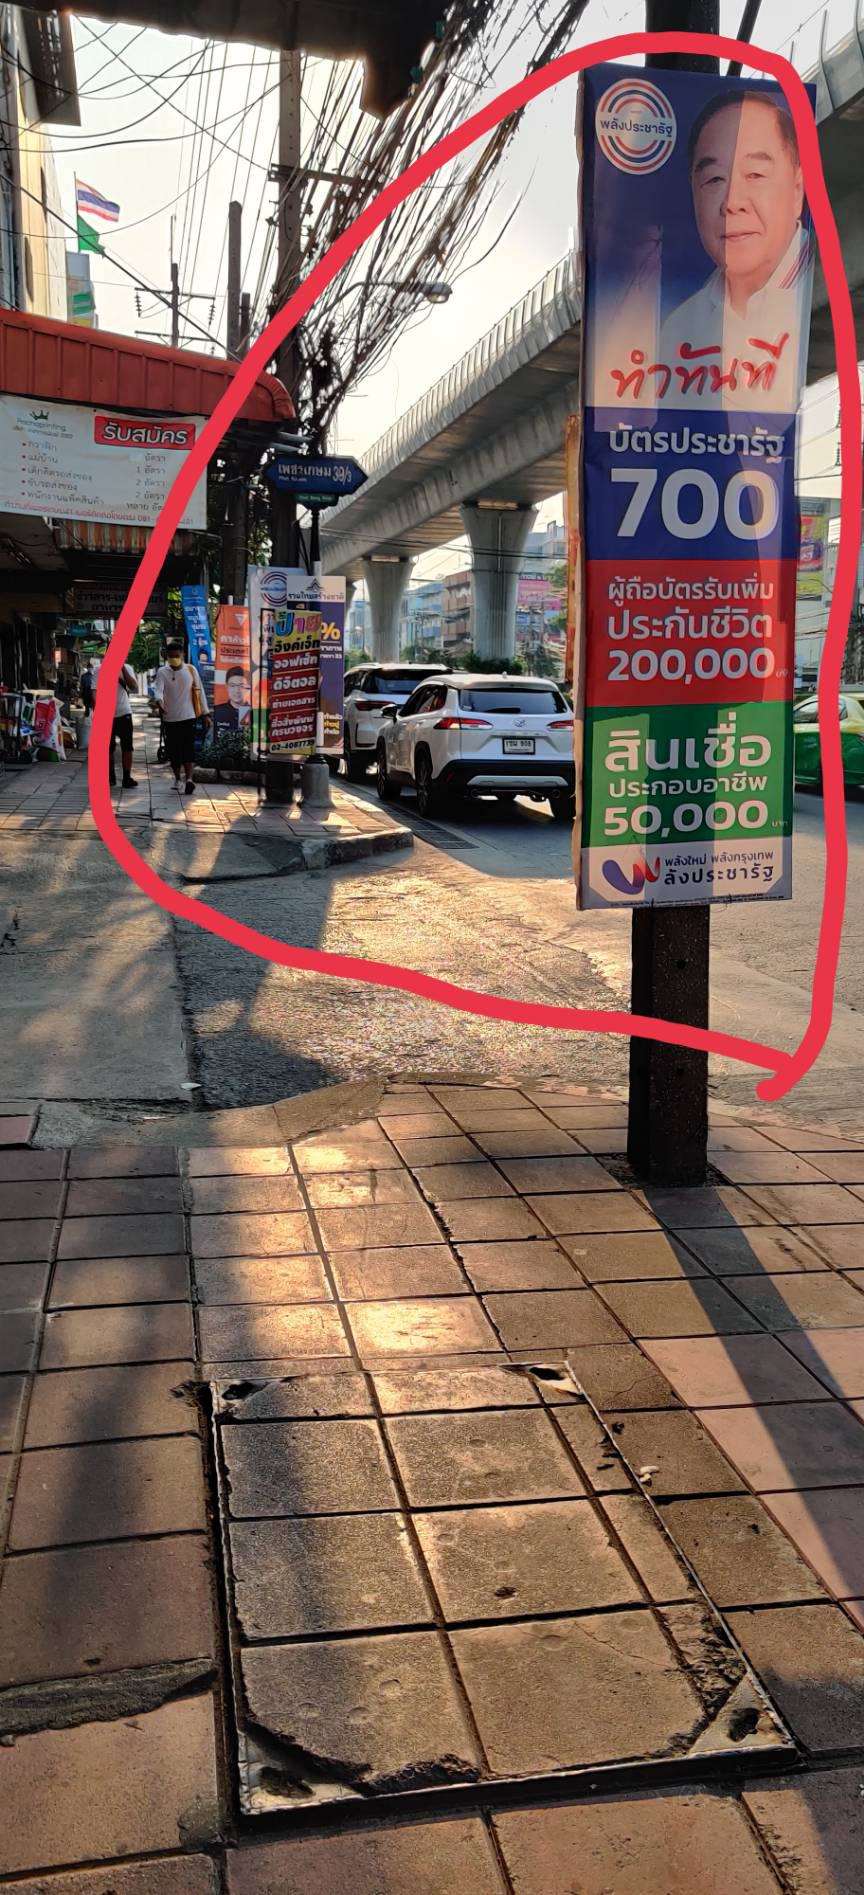Banner: (572, 77, 806, 896)
